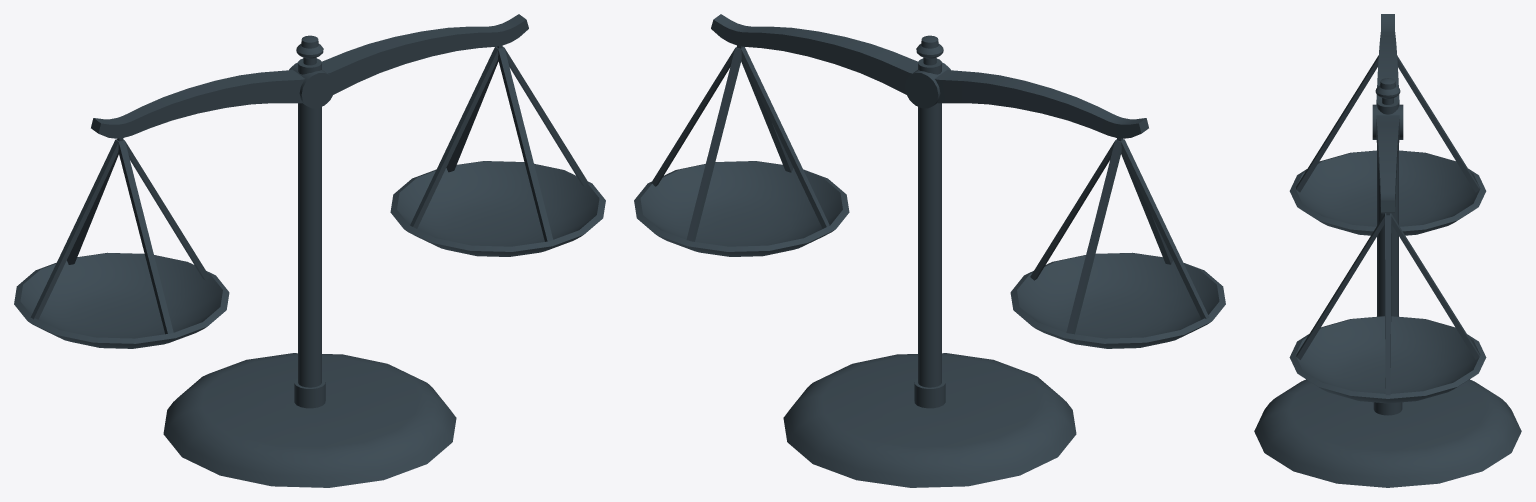
File: balance_scale.glb
3 views of the same model, side by side, from view 1: azimuth 30°, elevation 25°; view 2: azimuth 150°, elevation 25°; view 3: azimuth 270°, elevation 25° (orthographic). The views are drawn at different scales.
Parts seen in each view (by area): view 1: Circle.2591; view 2: Circle.2591; view 3: Circle.2591.
Part boxes in pixels (x1,y1,x2,y2): Circle.2591: (14, 14, 605, 487); Circle.2591: (634, 14, 1225, 487); Circle.2591: (1254, 14, 1521, 487).
Bounding box in the file's own units: 2.43 × 1.6 × 1.1.
1 material, 1 textured.
